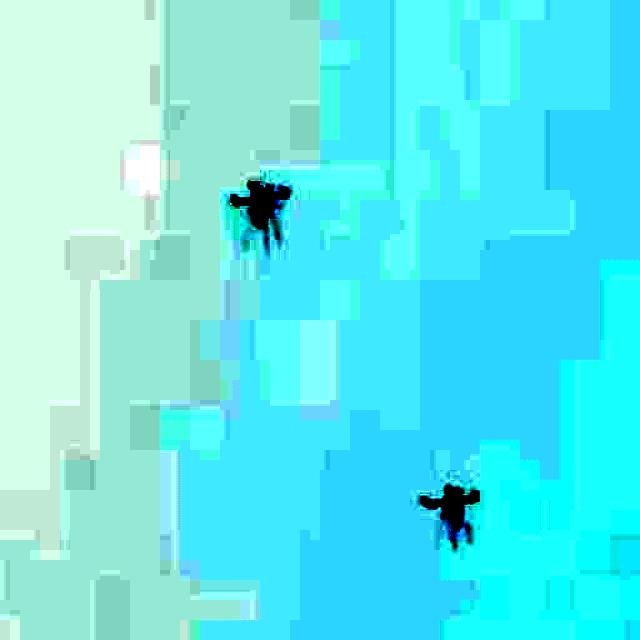bird: (402, 454, 504, 542), (219, 164, 314, 234)
